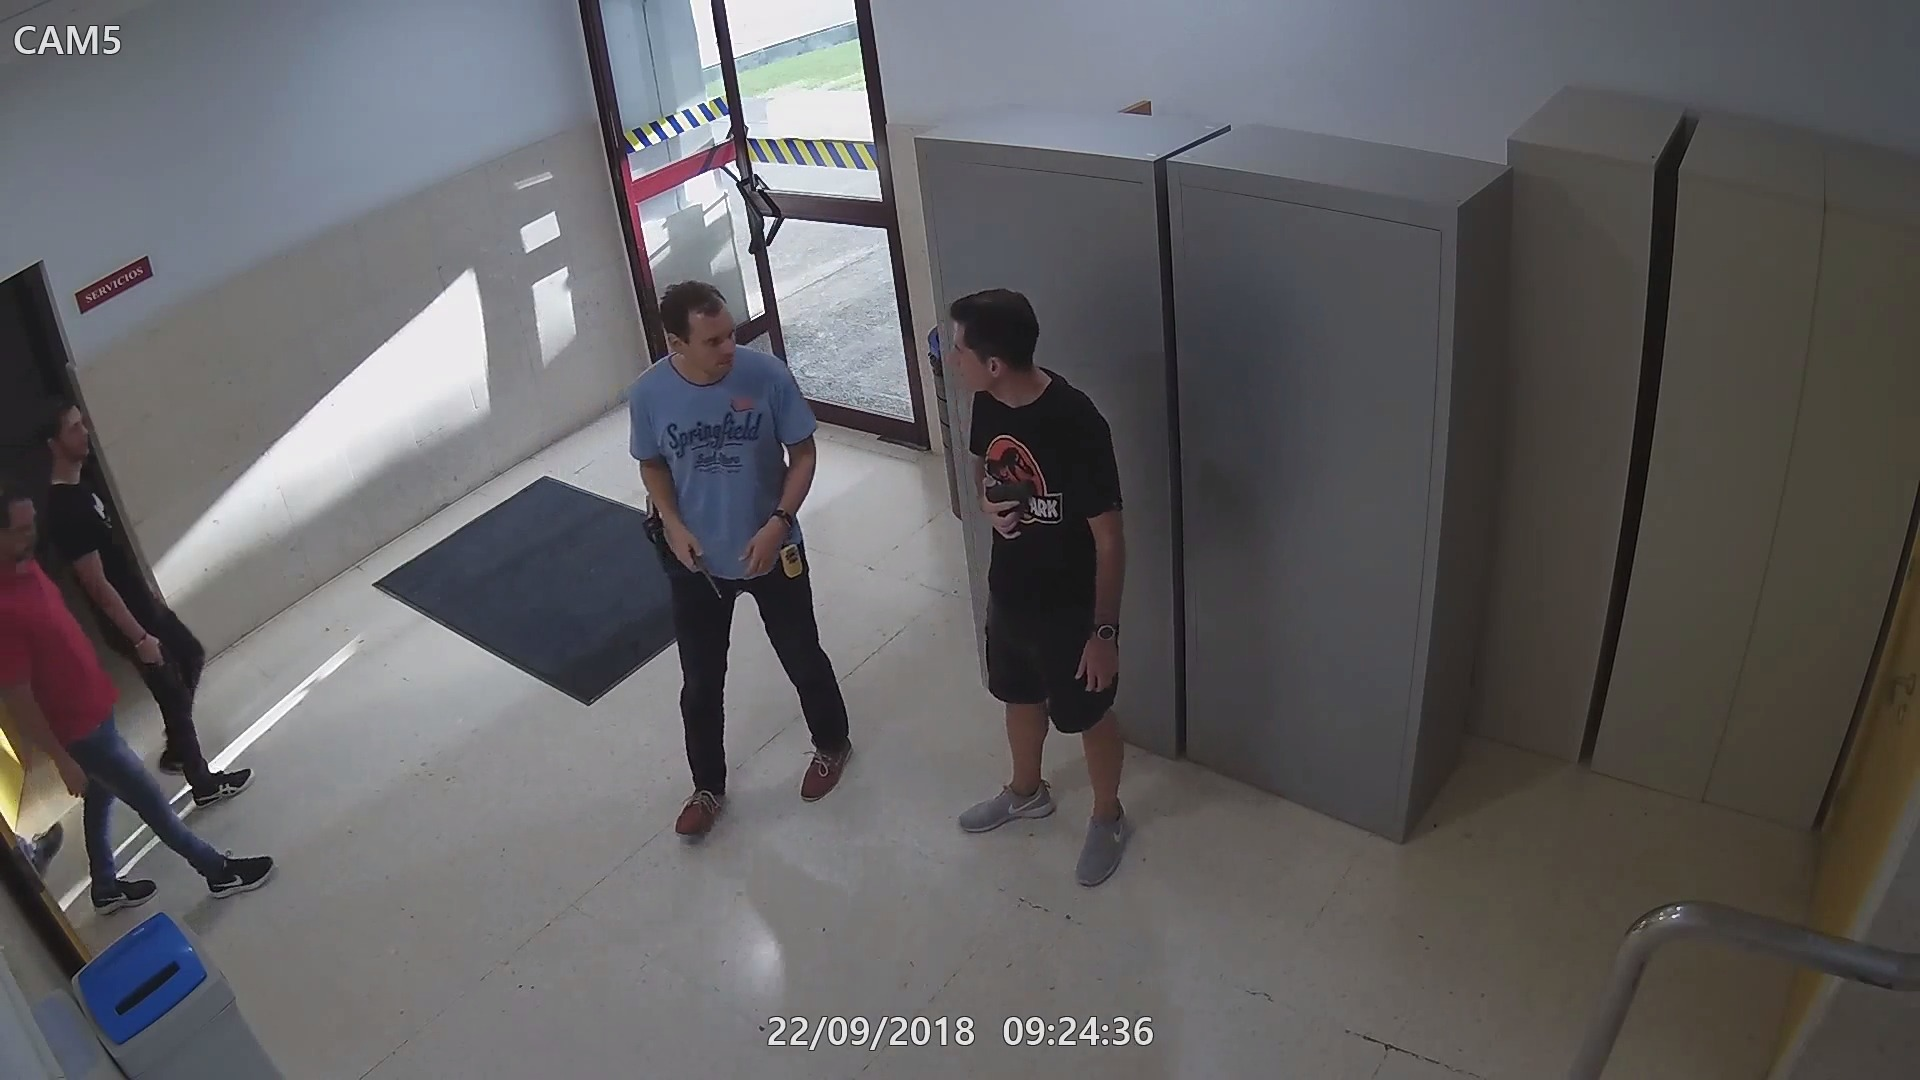Handgun: (981, 469, 1040, 541), (136, 634, 189, 695), (637, 487, 669, 551)
Knife: (655, 516, 724, 604)
